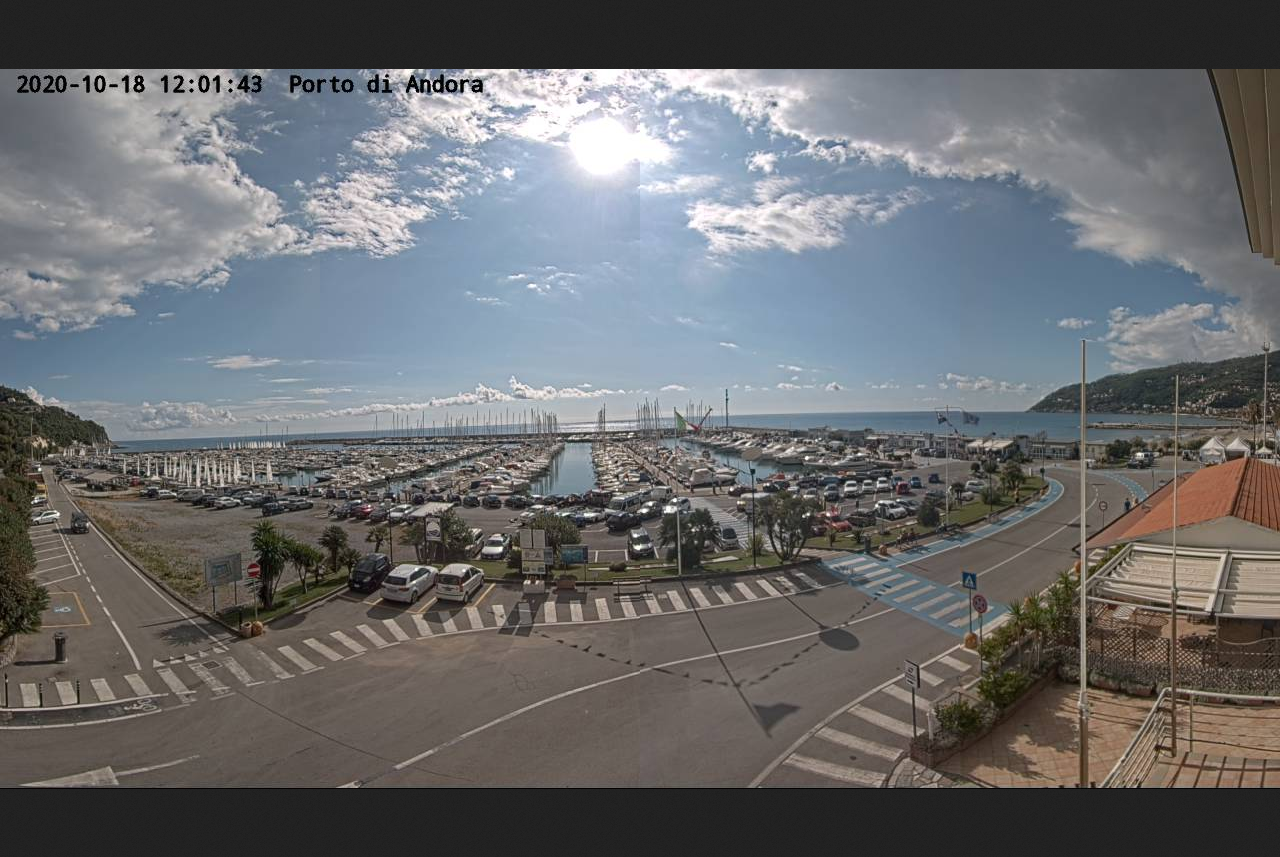maybe: (673, 407, 704, 435), (934, 410, 960, 437), (962, 411, 984, 425)
